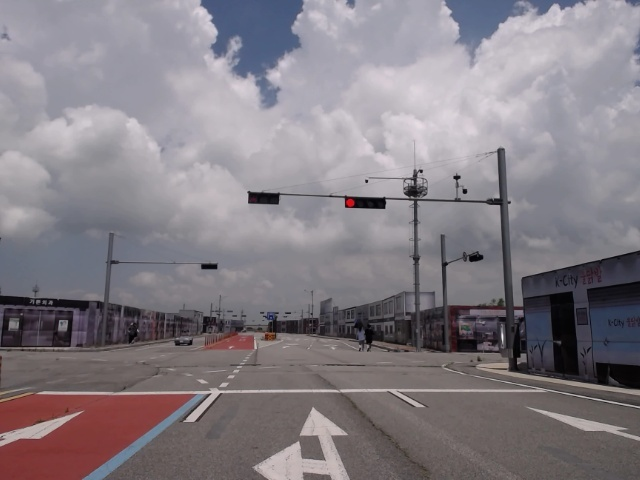red_4: (345, 197, 385, 210)
